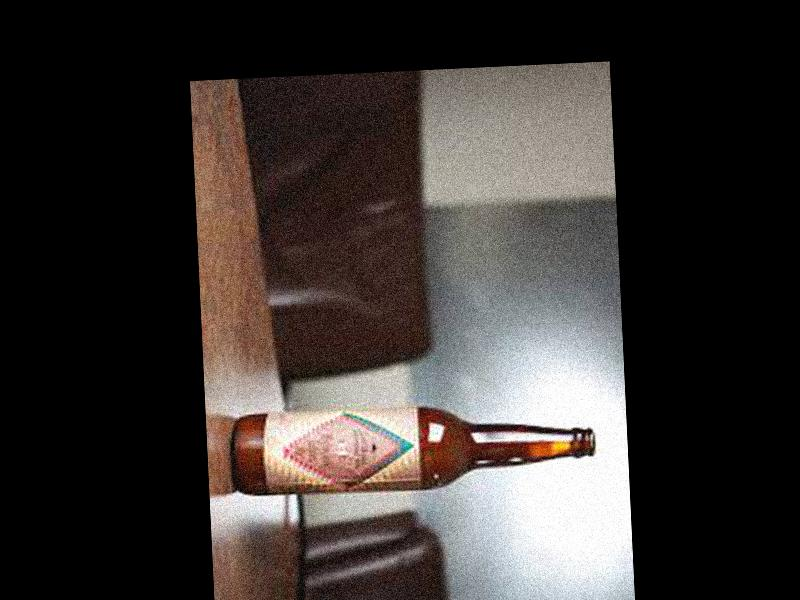Beer: (230, 401, 594, 497)
